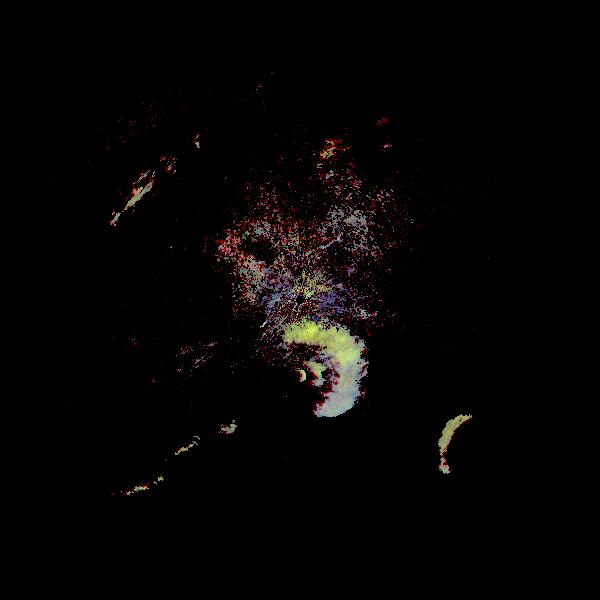roost: (240, 298, 390, 448), (424, 402, 520, 498)
